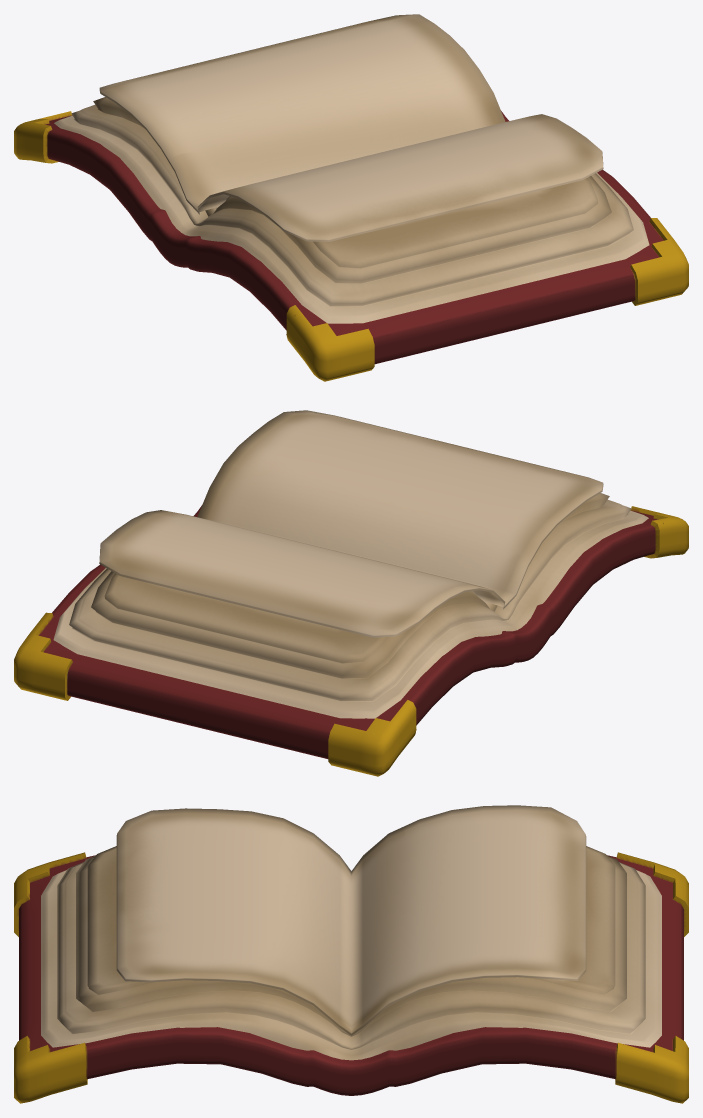
Rendered from Book_3dcoat.fbx.
The picture shows the model from 3 angles, top to bottom: view 1: azimuth 30°, elevation 25°; view 2: azimuth 150°, elevation 25°; view 3: azimuth 270°, elevation 25°; orthographic projection. The views are drawn at different scales.
Visible parts, largest first — view 1: Plane002, pages, Plane001; view 2: Plane002, pages, Plane001; view 3: Plane002, pages, Plane001.
Boxes of the visible parts, bbox=[...] form: Plane002: bbox=[99, 14, 603, 241]; pages: bbox=[54, 97, 649, 323]; Plane001: bbox=[14, 111, 688, 381]; Plane002: bbox=[99, 410, 603, 637]; pages: bbox=[53, 493, 648, 718]; Plane001: bbox=[14, 505, 688, 776]; Plane002: bbox=[116, 805, 586, 1035]; pages: bbox=[41, 846, 661, 1060]; Plane001: bbox=[14, 852, 688, 1103].
Size of the model in its own units: 87.95 by 24.71 by 126.
